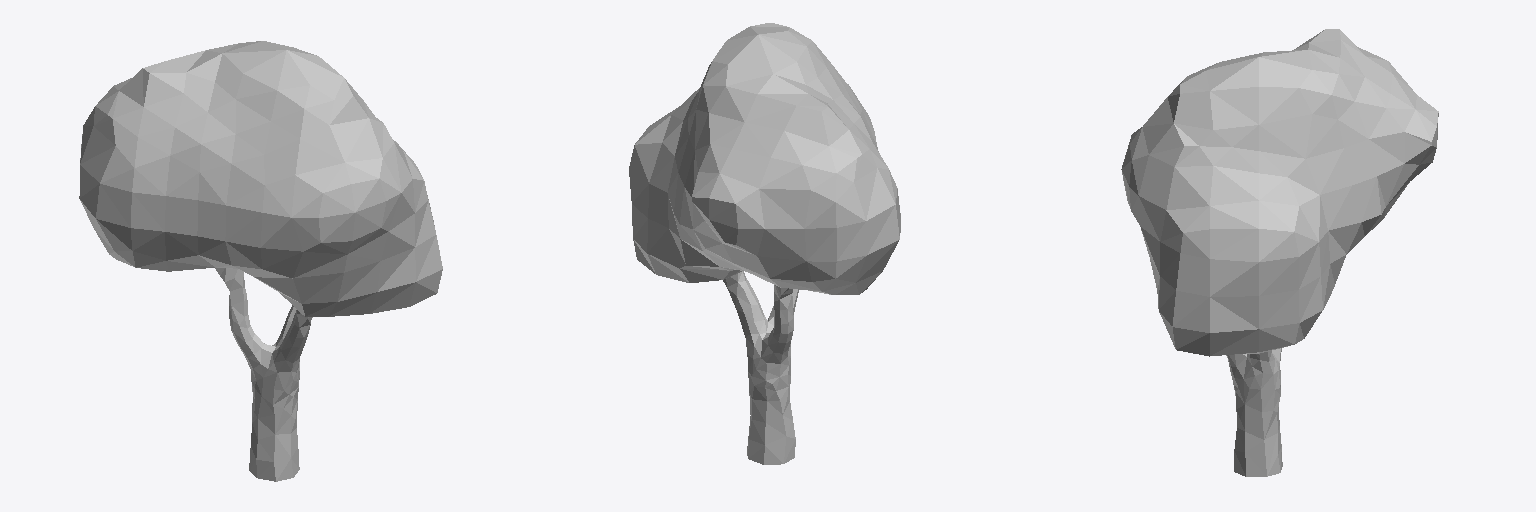
File: tree1.obj
3 renders of one model, left to right at view 1: azimuth 30°, elevation 25°; view 2: azimuth 150°, elevation 25°; view 3: azimuth 270°, elevation 25°, orthographic.
Parts seen in each view (by area): view 1: Tree1; view 2: Tree1; view 3: Tree1.
Boxes of the visible parts, x1,y1,x2,y2 form: Tree1: [79, 41, 442, 481]; Tree1: [629, 23, 900, 464]; Tree1: [1121, 29, 1438, 476].
Bounding box in the file's own units: 7.34 × 10.02 × 6.9.